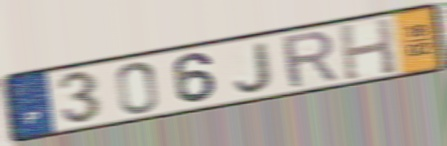0: (114, 59, 161, 116)
3: (55, 69, 104, 127)
6: (172, 51, 220, 105)
H: (337, 16, 400, 83)
J: (232, 39, 275, 95)
R: (278, 28, 341, 92)
